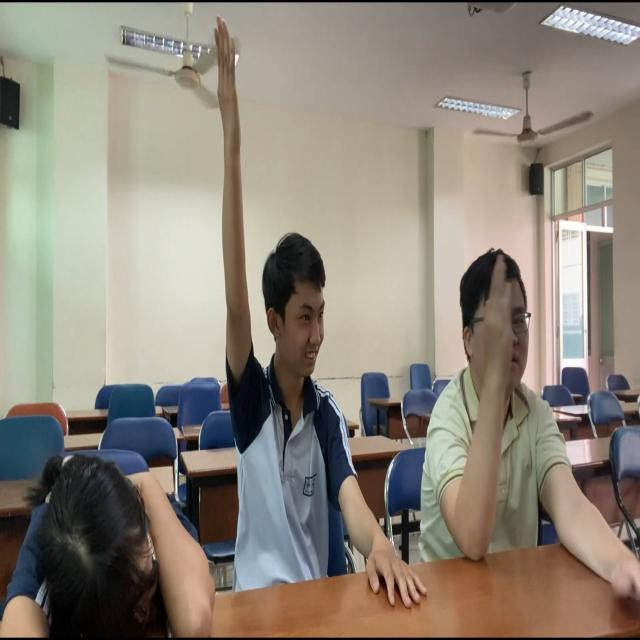raise_hand: (210, 10, 342, 591), (419, 217, 558, 558)
sleep: (1, 411, 233, 640)
